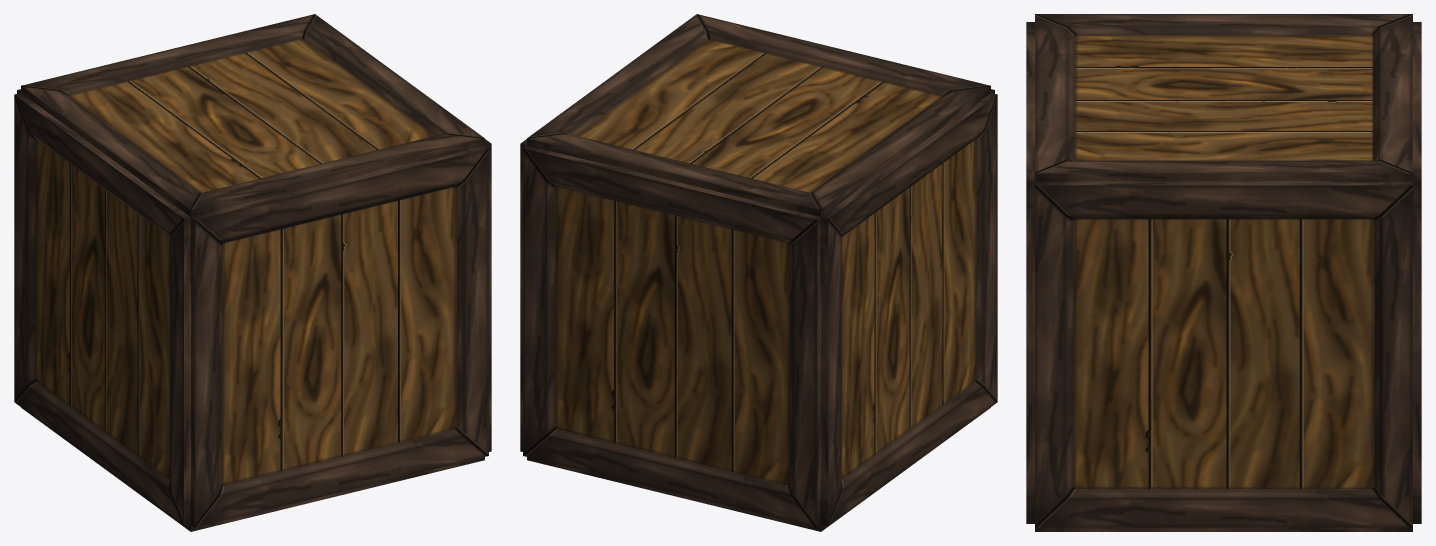
The model's file is caixa_break.fbx.
The picture shows the model from 3 angles, left to right: view 1: azimuth 30°, elevation 25°; view 2: azimuth 150°, elevation 25°; view 3: azimuth 270°, elevation 25°; orthographic projection. The views are drawn at different scales.
Parts seen in each view (by area): view 1: polySurface11 (×4), polySurface8 (×4); view 2: polySurface11 (×4), polySurface8 (×4); view 3: polySurface11 (×4), polySurface8 (×5).
Boxes of the visible parts, x1,y1,x2,y2 form: polySurface11 (×4): (14,14,488,531); polySurface8 (×4): (14,78,488,527); polySurface11 (×4): (523,73,997,531); polySurface8 (×4): (523,14,997,527); polySurface11 (×4): (1026,14,1421,408); polySurface8 (×5): (1026,14,1421,531).
Size of the model in its own units: 1.1 by 1.1 by 1.1.
Materials: 1 (1 with a texture image).
